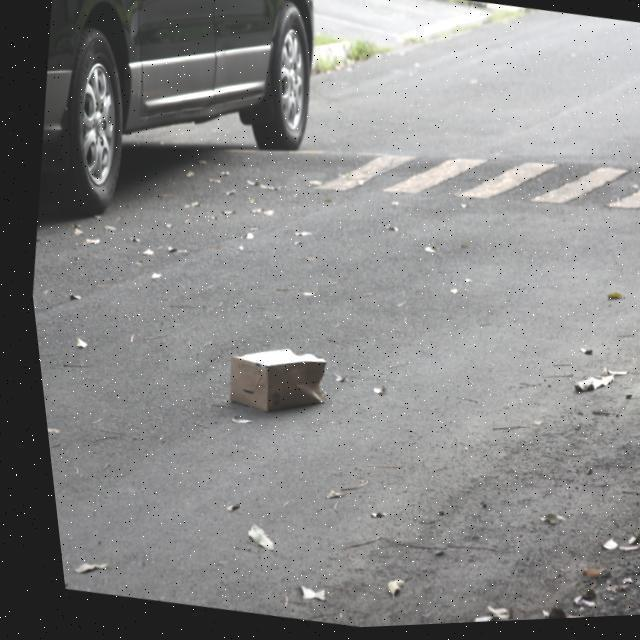Paper_Bag: (212, 339, 326, 426)
